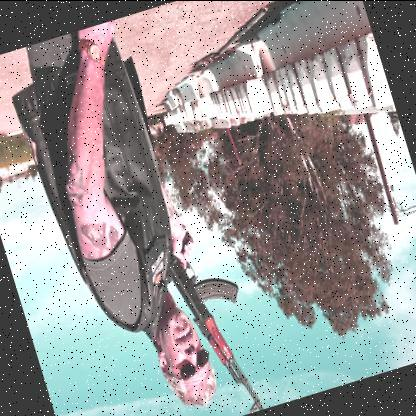rifle: (143, 209, 274, 416)
